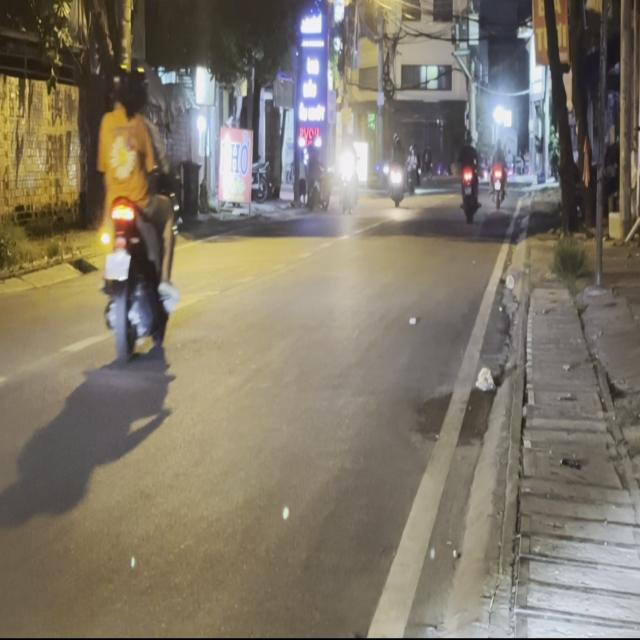helmet: (110, 66, 132, 113)
licenseplate: (94, 60, 180, 363)
motorcyclist: (119, 66, 146, 116)
nohelmet: (104, 251, 129, 278)
